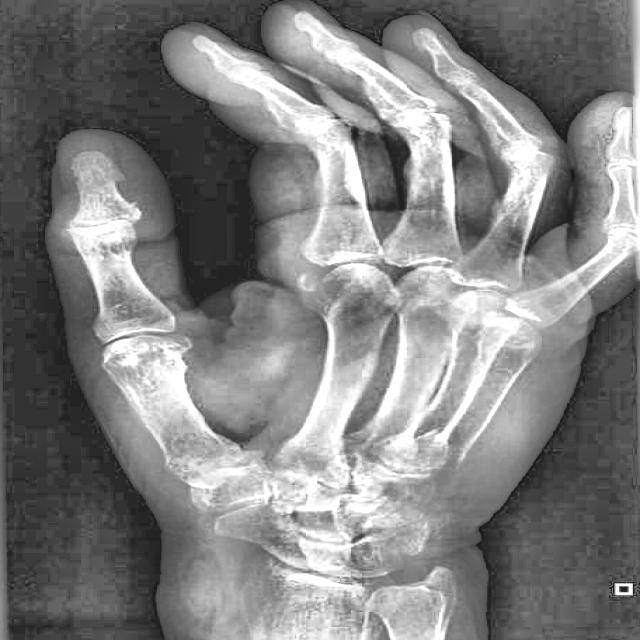fracture: (427, 427, 470, 472)
